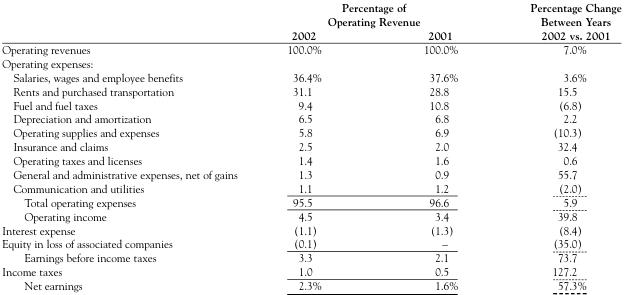table: (1, 0, 620, 291)
table column: (1, 0, 261, 291), (493, 0, 620, 291), (372, 0, 493, 291), (261, 0, 372, 291)
table column header: (1, 0, 620, 41)
table projected row header: (1, 55, 620, 69)
table row: (1, 0, 620, 28), (1, 41, 620, 55), (1, 55, 620, 69), (1, 69, 620, 83), (1, 83, 620, 97), (1, 97, 620, 111), (1, 111, 620, 125), (1, 138, 620, 152), (1, 152, 620, 166), (1, 166, 620, 180), (1, 180, 620, 194), (1, 194, 620, 208), (1, 208, 620, 222), (1, 222, 620, 236), (1, 236, 620, 250), (1, 263, 620, 277), (1, 277, 620, 291), (1, 28, 620, 41), (1, 125, 620, 138), (1, 250, 620, 263)
table spanning cell: (261, 0, 493, 28), (493, 0, 620, 41)
